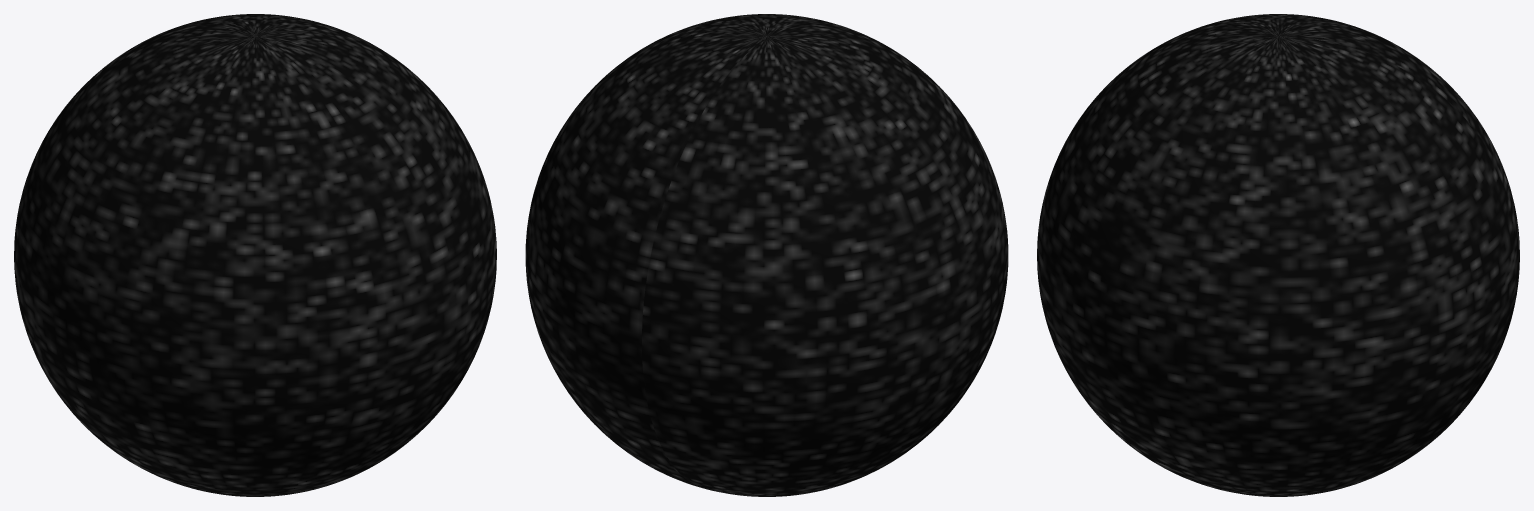
The model's file is frontierstation_sky.obj.
3 views of the same model, side by side, from view 1: azimuth 30°, elevation 25°; view 2: azimuth 150°, elevation 25°; view 3: azimuth 270°, elevation 25° (orthographic).
Size of the model in its own units: 4685 by 4686 by 4685.
